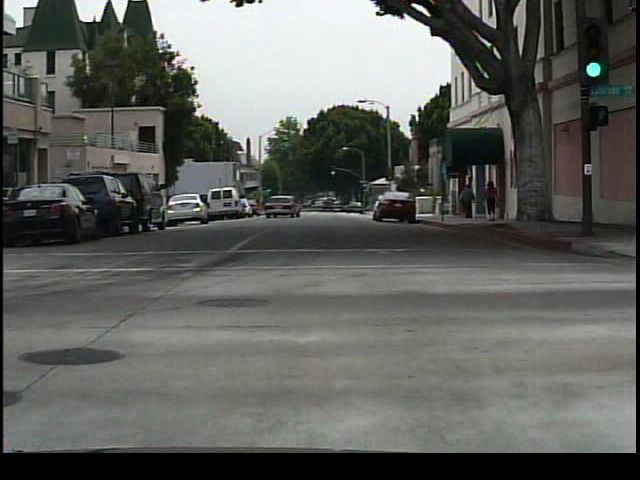person: (456, 182, 478, 222), (484, 174, 501, 222)
